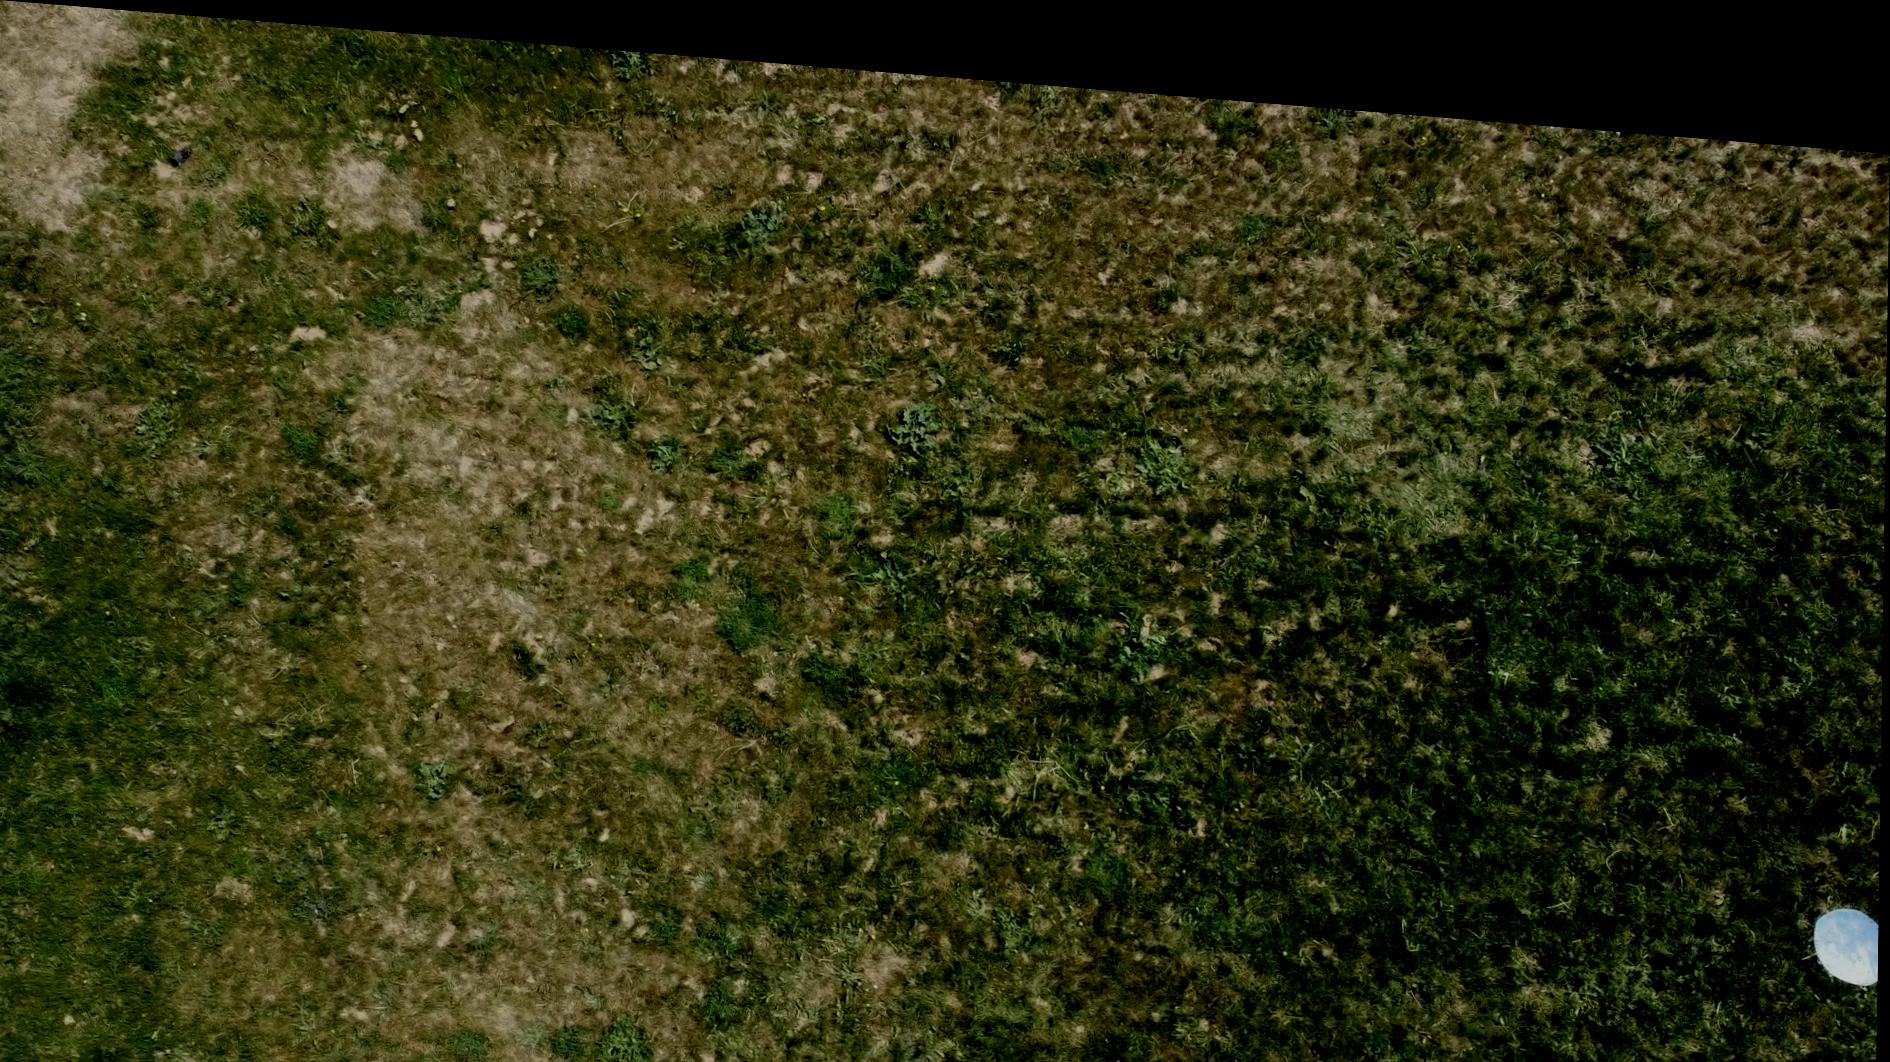Blue: (1813, 871, 1881, 958)
